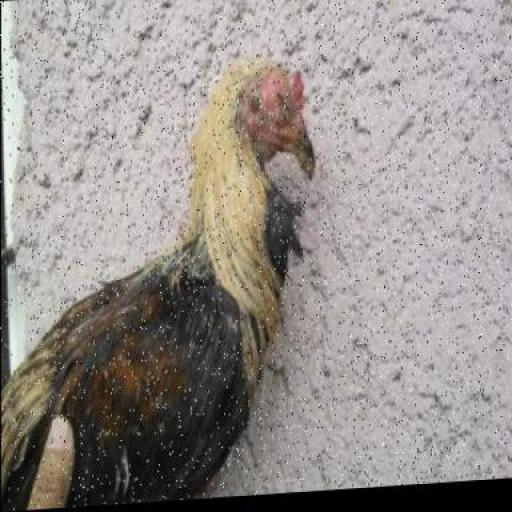disease: (230, 67, 318, 177)
